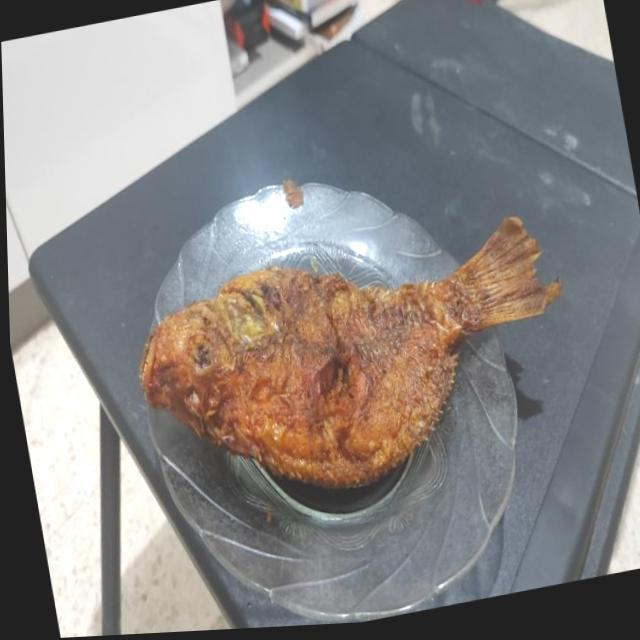ikan_mujair: (140, 217, 562, 488)
